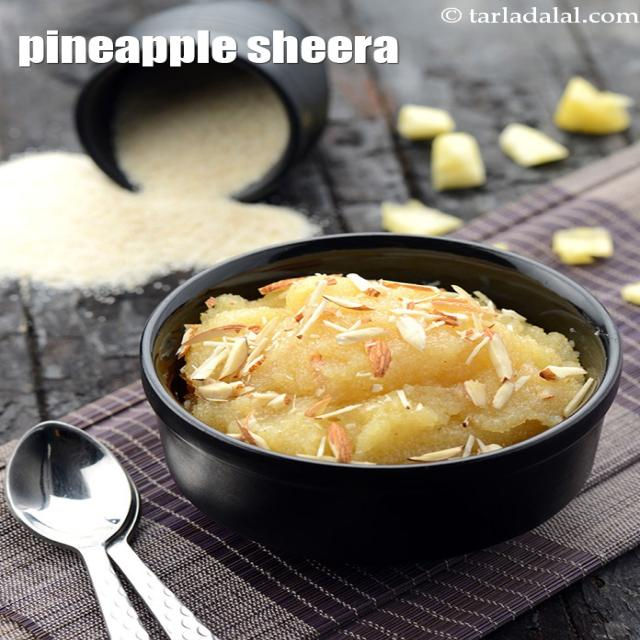kesari bath: (159, 255, 613, 491)
